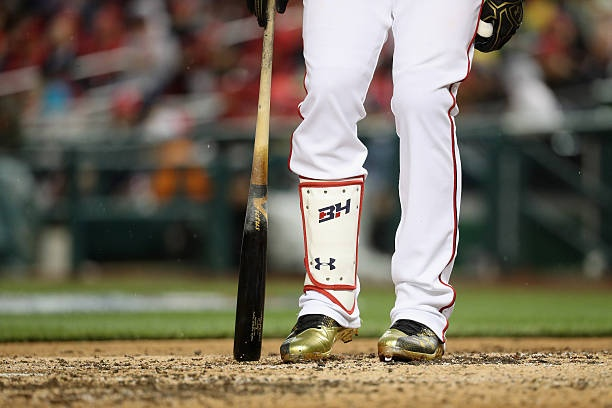bita: (229, 1, 281, 359)
